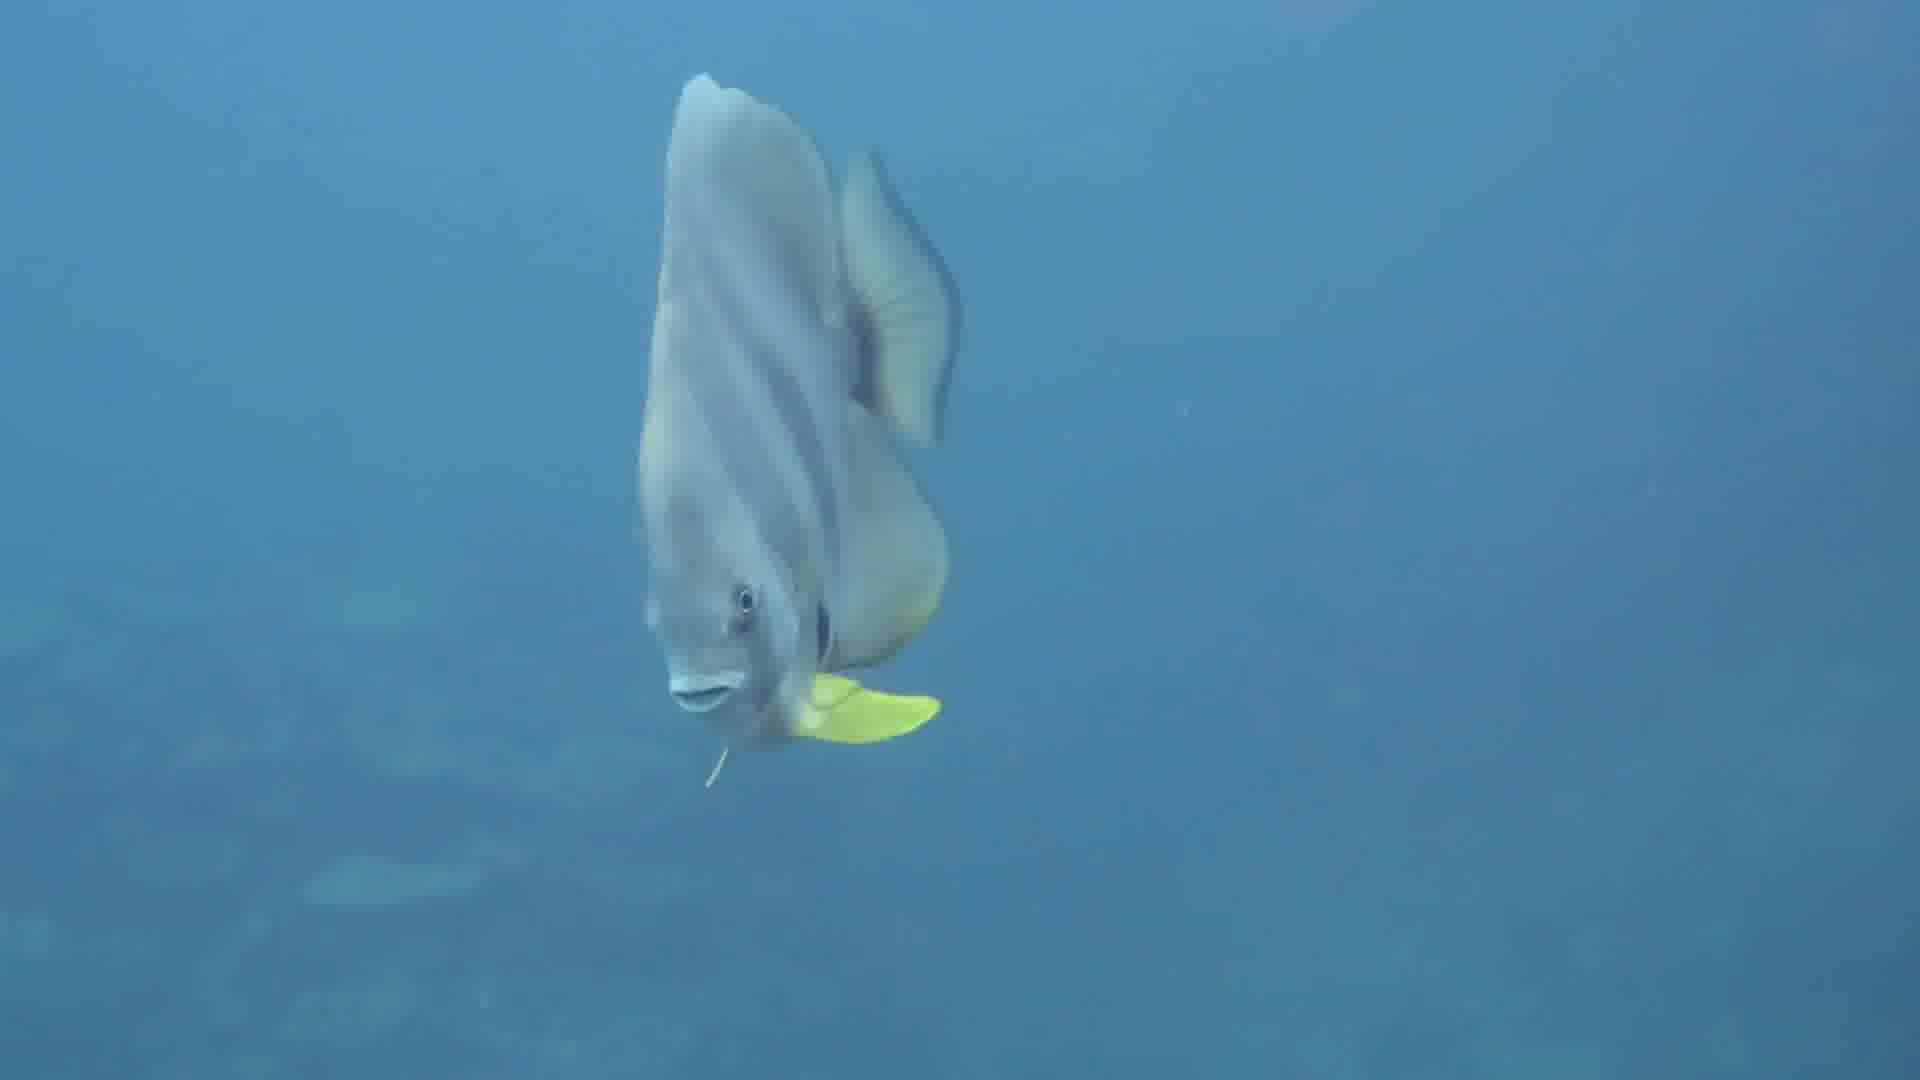Platax teira: (439, 65, 1079, 775)
